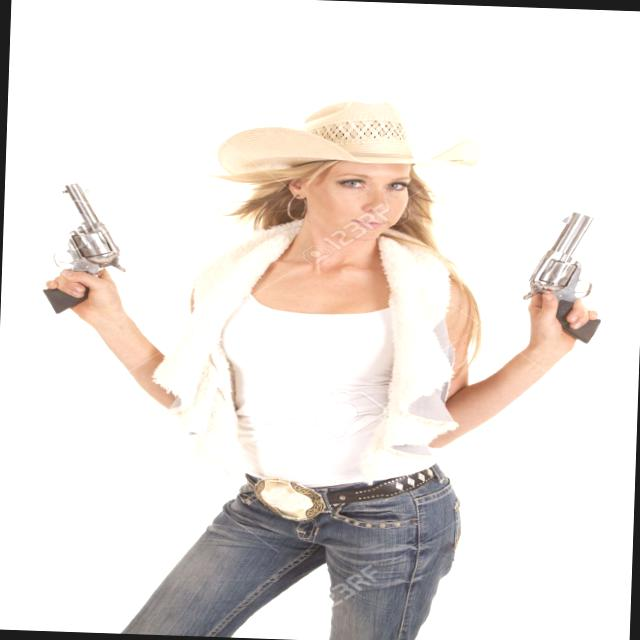handgun: (30, 178, 128, 318), (522, 210, 610, 346)
